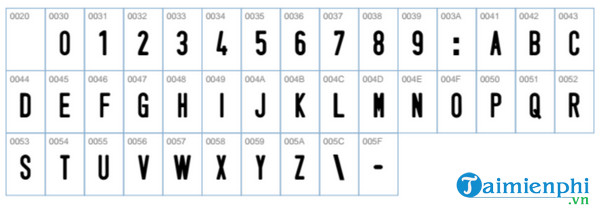0: (56, 28, 75, 59)
1: (92, 28, 111, 58)
2: (130, 27, 154, 58)
3: (170, 29, 195, 59)
4: (214, 28, 229, 59)
5: (251, 29, 273, 60)
6: (291, 27, 309, 58)
7: (327, 27, 350, 60)
8: (368, 29, 390, 58)
9: (405, 24, 425, 51)
A: (486, 28, 506, 59)
B: (525, 29, 545, 62)
C: (564, 28, 584, 60)
D: (16, 91, 37, 122)
E: (56, 87, 72, 112)
F: (95, 90, 114, 121)
G: (132, 92, 155, 124)
H: (172, 91, 190, 125)
I: (213, 91, 233, 124)
J: (248, 83, 270, 119)
K: (288, 92, 311, 124)
L: (327, 91, 350, 123)
M: (369, 91, 389, 123)
N: (408, 86, 429, 113)
O: (449, 87, 465, 114)
P: (485, 92, 507, 123)
Q: (524, 91, 546, 122)
R: (566, 90, 585, 126)
S: (15, 147, 35, 178)
T: (54, 153, 75, 186)
U: (93, 144, 113, 180)
V: (131, 147, 153, 177)
W: (170, 144, 195, 180)
X: (211, 147, 232, 184)
Y: (250, 147, 271, 178)
Z: (288, 146, 311, 179)
